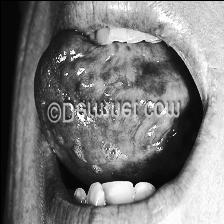Non-Cancerous Skin Condition: (29, 9, 208, 96), (27, 125, 194, 214)
